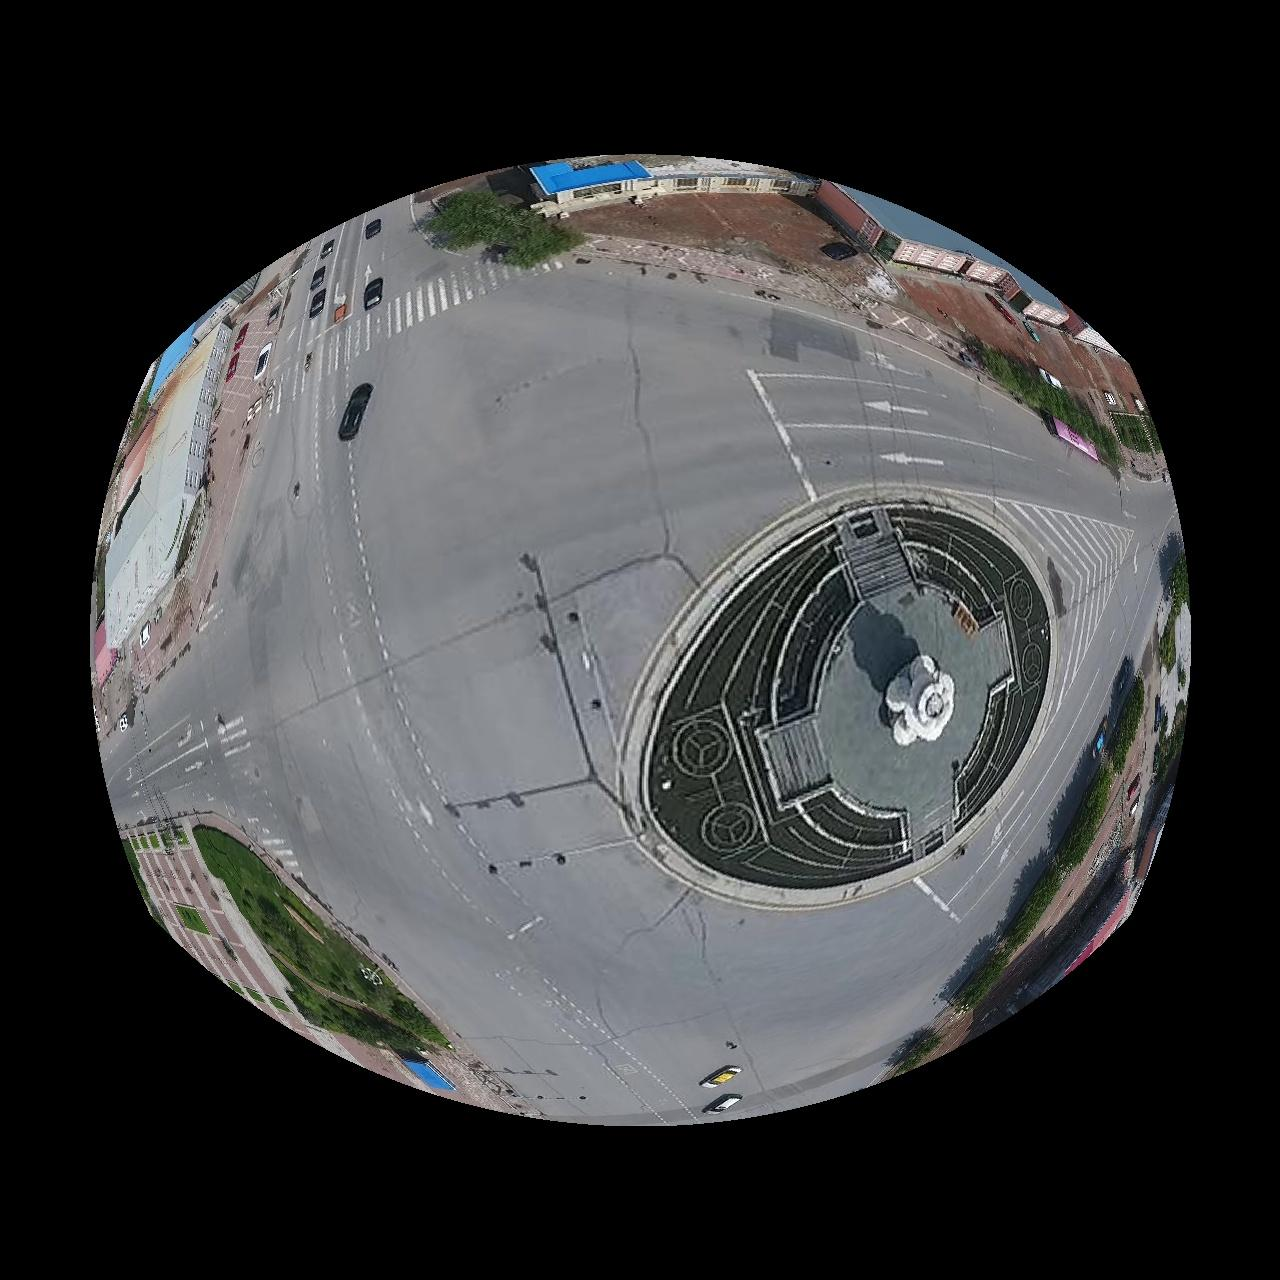building: (817, 181, 1121, 354), (93, 322, 230, 682), (529, 156, 821, 215)
cars: (1043, 411, 1101, 461), (338, 383, 373, 440), (700, 1067, 742, 1090), (703, 1095, 743, 1117), (362, 277, 382, 308), (253, 342, 271, 376), (332, 293, 348, 322), (224, 347, 237, 381), (308, 288, 324, 316), (363, 217, 380, 238), (309, 265, 324, 288), (319, 238, 334, 258), (234, 322, 246, 346)
trees: (971, 338, 1125, 470), (424, 188, 585, 267), (1058, 764, 1115, 872), (1003, 879, 1065, 966), (1114, 678, 1148, 774), (887, 1028, 942, 1077), (951, 967, 1002, 1016), (1160, 532, 1192, 612), (1160, 617, 1180, 670)
